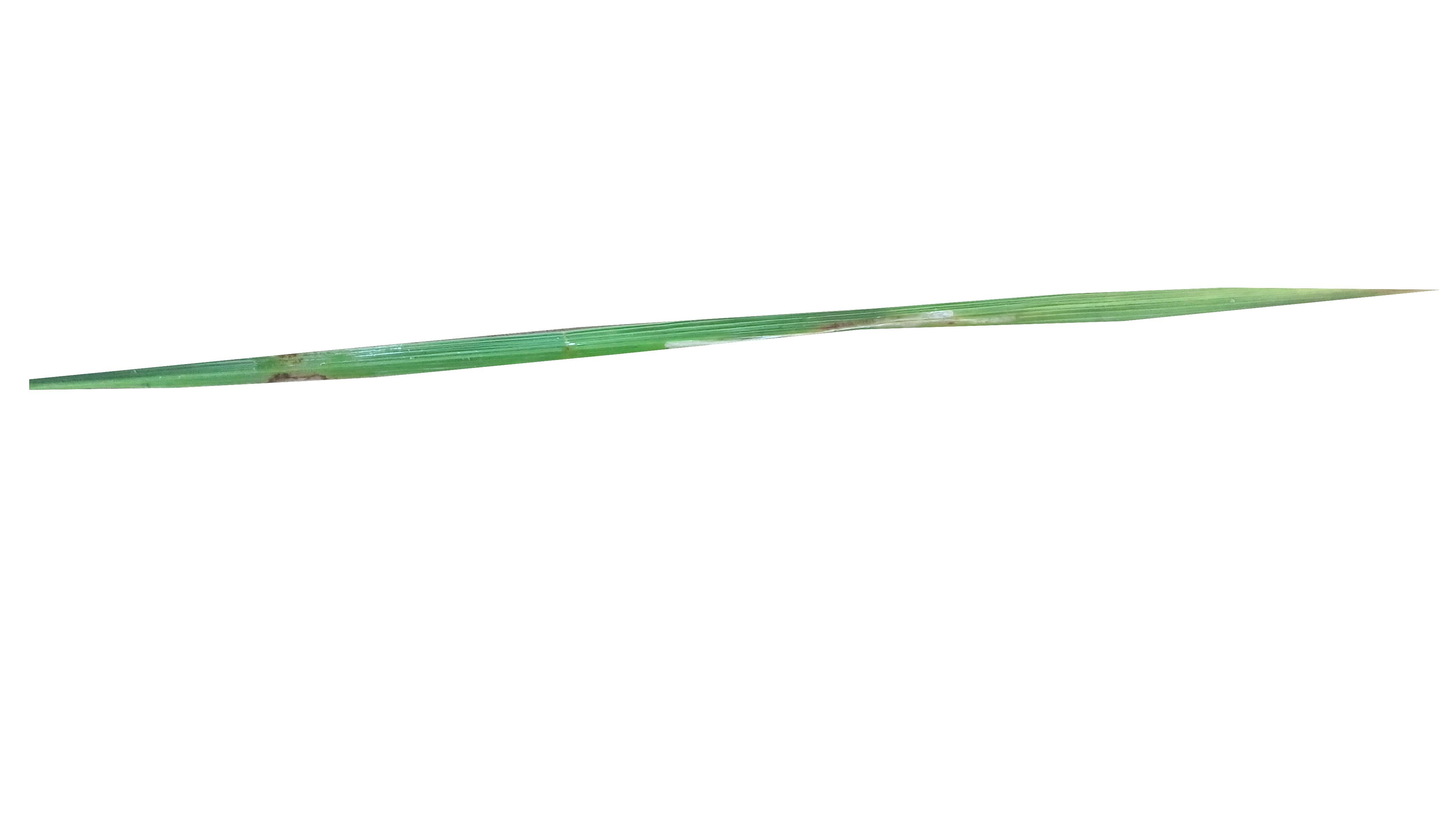Blight: (837, 303, 1035, 329)
Rice blast: (266, 343, 340, 396)
